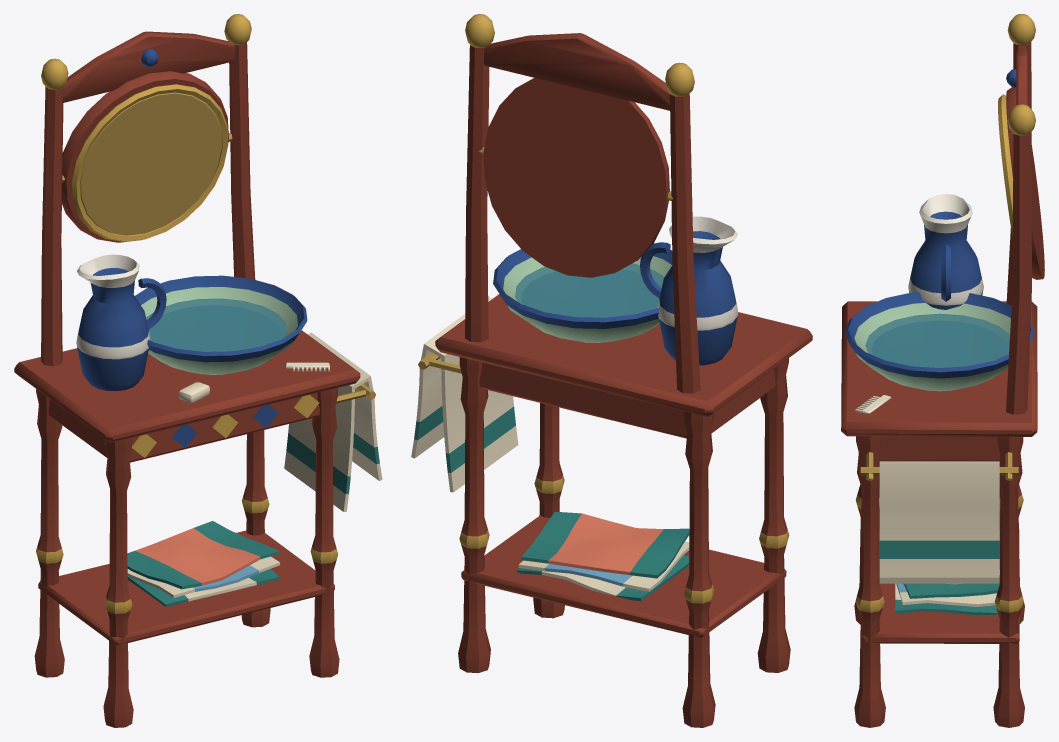
File: deco_wash_stand.fbx
3 views of the same model, side by side, from view 1: azimuth 30°, elevation 25°; view 2: azimuth 150°, elevation 25°; view 3: azimuth 270°, elevation 25° (orthographic). The views are drawn at different scales.
Parts seen in each view (by area): view 1: WashStand_Stand, WashStand_Mirror, WashStand_Towel, WashStand_Basin, WashStand_Pitcher; view 2: WashStand_Stand, WashStand_Mirror, WashStand_Towel, WashStand_Basin, WashStand_Pitcher; view 3: WashStand_Stand, WashStand_Towel, WashStand_Basin, WashStand_Pitcher, WashStand_Mirror.
Boxes of the visible parts, x1,y1,x2,y2 form: WashStand_Stand: (14, 14, 375, 727); WashStand_Mirror: (62, 71, 232, 242); WashStand_Towel: (127, 332, 382, 606); WashStand_Basin: (135, 275, 329, 402); WashStand_Pitcher: (76, 254, 166, 391); WashStand_Stand: (418, 14, 812, 727); WashStand_Mirror: (479, 78, 672, 277); WashStand_Towel: (411, 296, 689, 601); WashStand_Basin: (493, 249, 672, 342); WashStand_Pitcher: (640, 216, 738, 365); WashStand_Stand: (841, 14, 1037, 727); WashStand_Towel: (879, 461, 999, 614); WashStand_Basin: (845, 292, 1034, 413); WashStand_Pitcher: (908, 194, 983, 309); WashStand_Mirror: (998, 87, 1044, 279).
Size of the model in its own units: 108 by 215 by 64.46.
